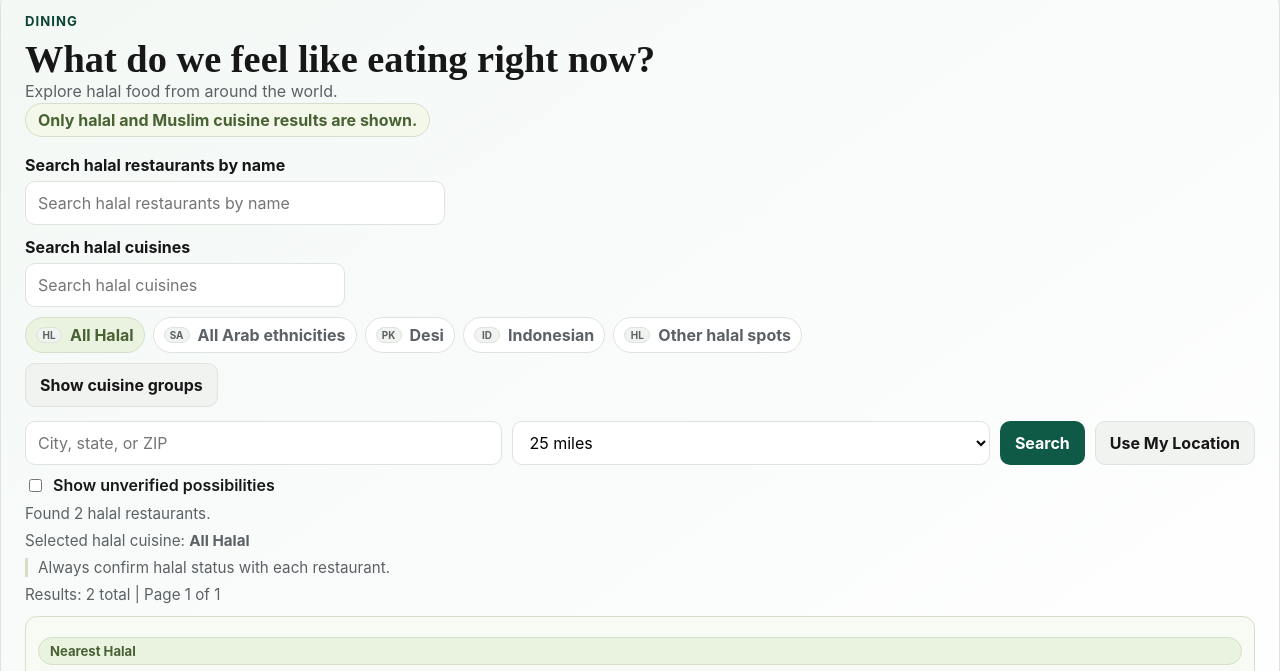
Test case: Restaurants halal-first UI › prioritizes starts-with name matches in client-side name filtering
Type "halal" into the search field labelled "Search halal restaurants by name".
click(235, 203); type("halal")  # box [25,181,445,225]
(page scrolled)
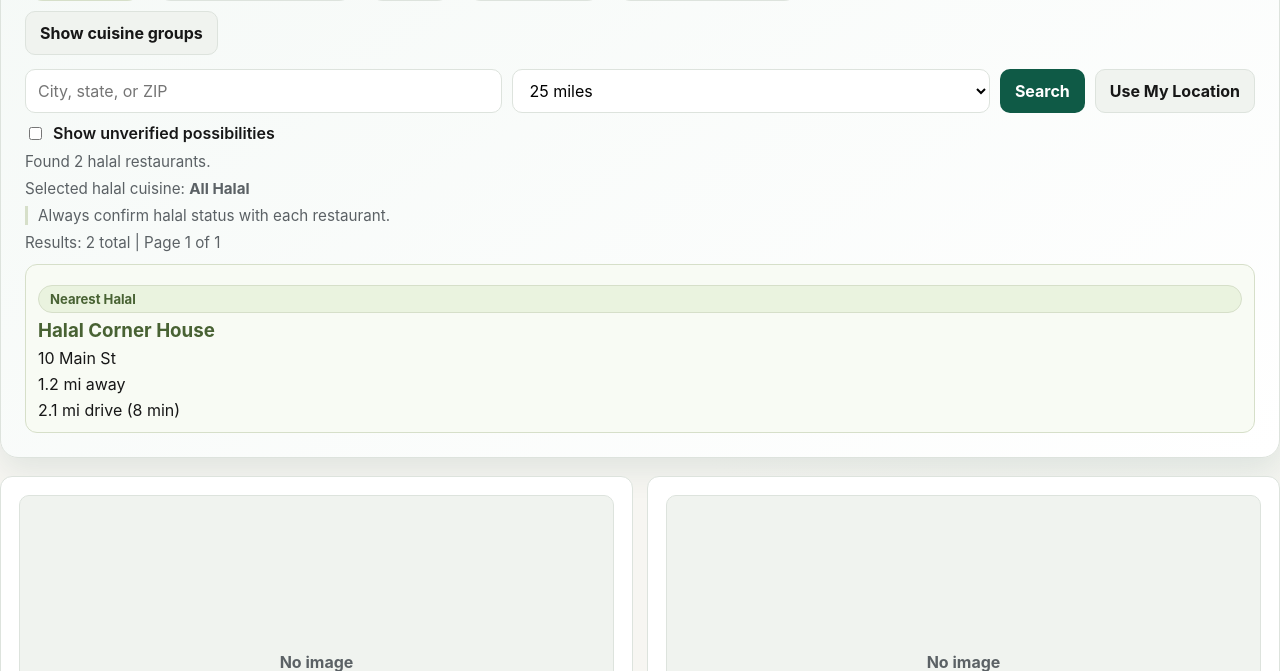
Expected: the heading reads "Halal Corner House", [38,318,215,342]
